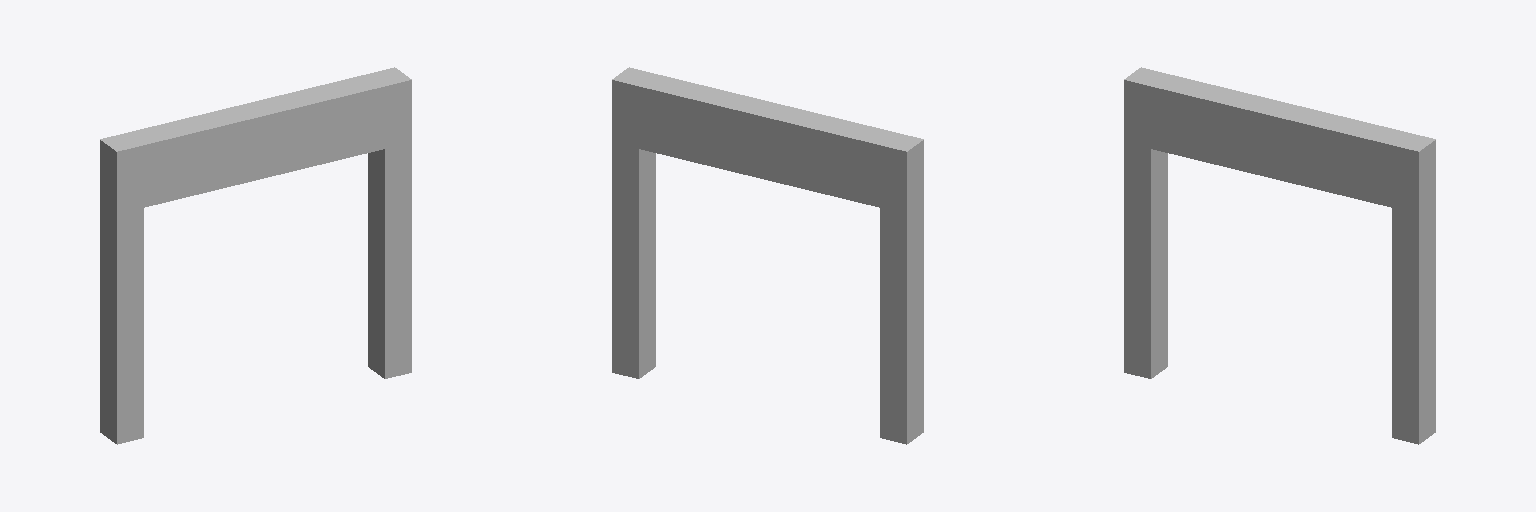
Rendered from Goal.obj.
3 views of the same model, side by side, from view 1: azimuth 30°, elevation 25°; view 2: azimuth 150°, elevation 25°; view 3: azimuth 330°, elevation 25° (orthographic).
Visible parts, largest first — view 1: Cube; view 2: Cube; view 3: Cube.
Boxes of the visible parts, x1=… form: Cube: x1=100, y1=67, x2=411, y2=444; Cube: x1=612, y1=67, x2=923, y2=444; Cube: x1=1124, y1=67, x2=1435, y2=444.
Size of the model in its own units: 7.59 by 7.19 by 0.7612.